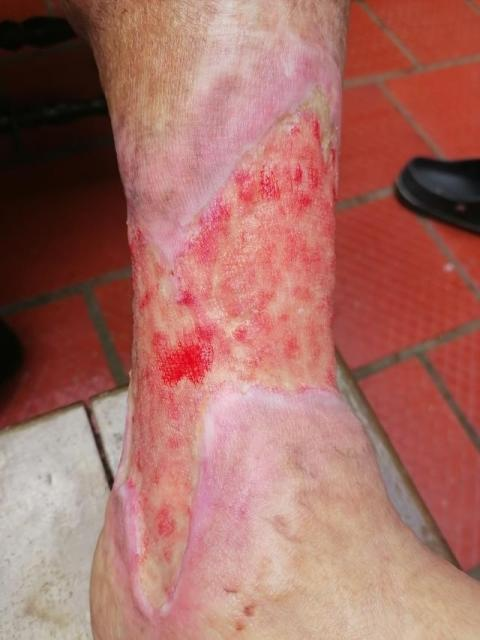wound: (125, 94, 339, 614)
